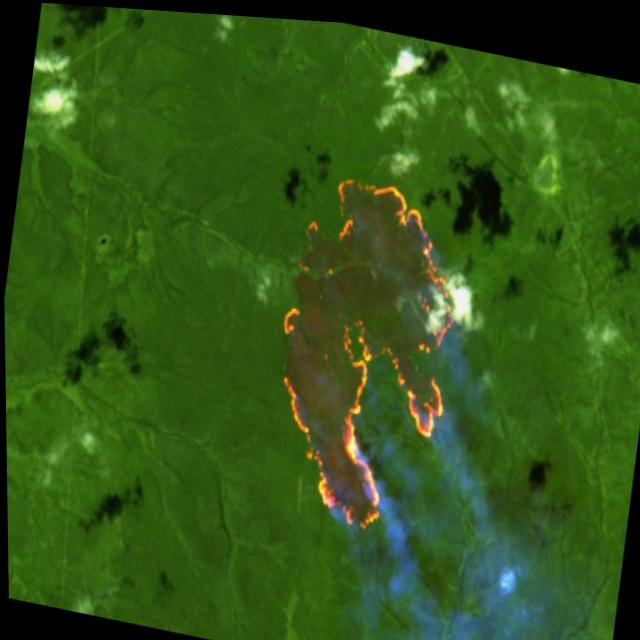fire: (235, 127, 485, 559)
